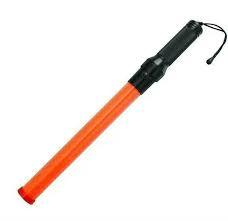Lamp: (9, 7, 217, 213)
